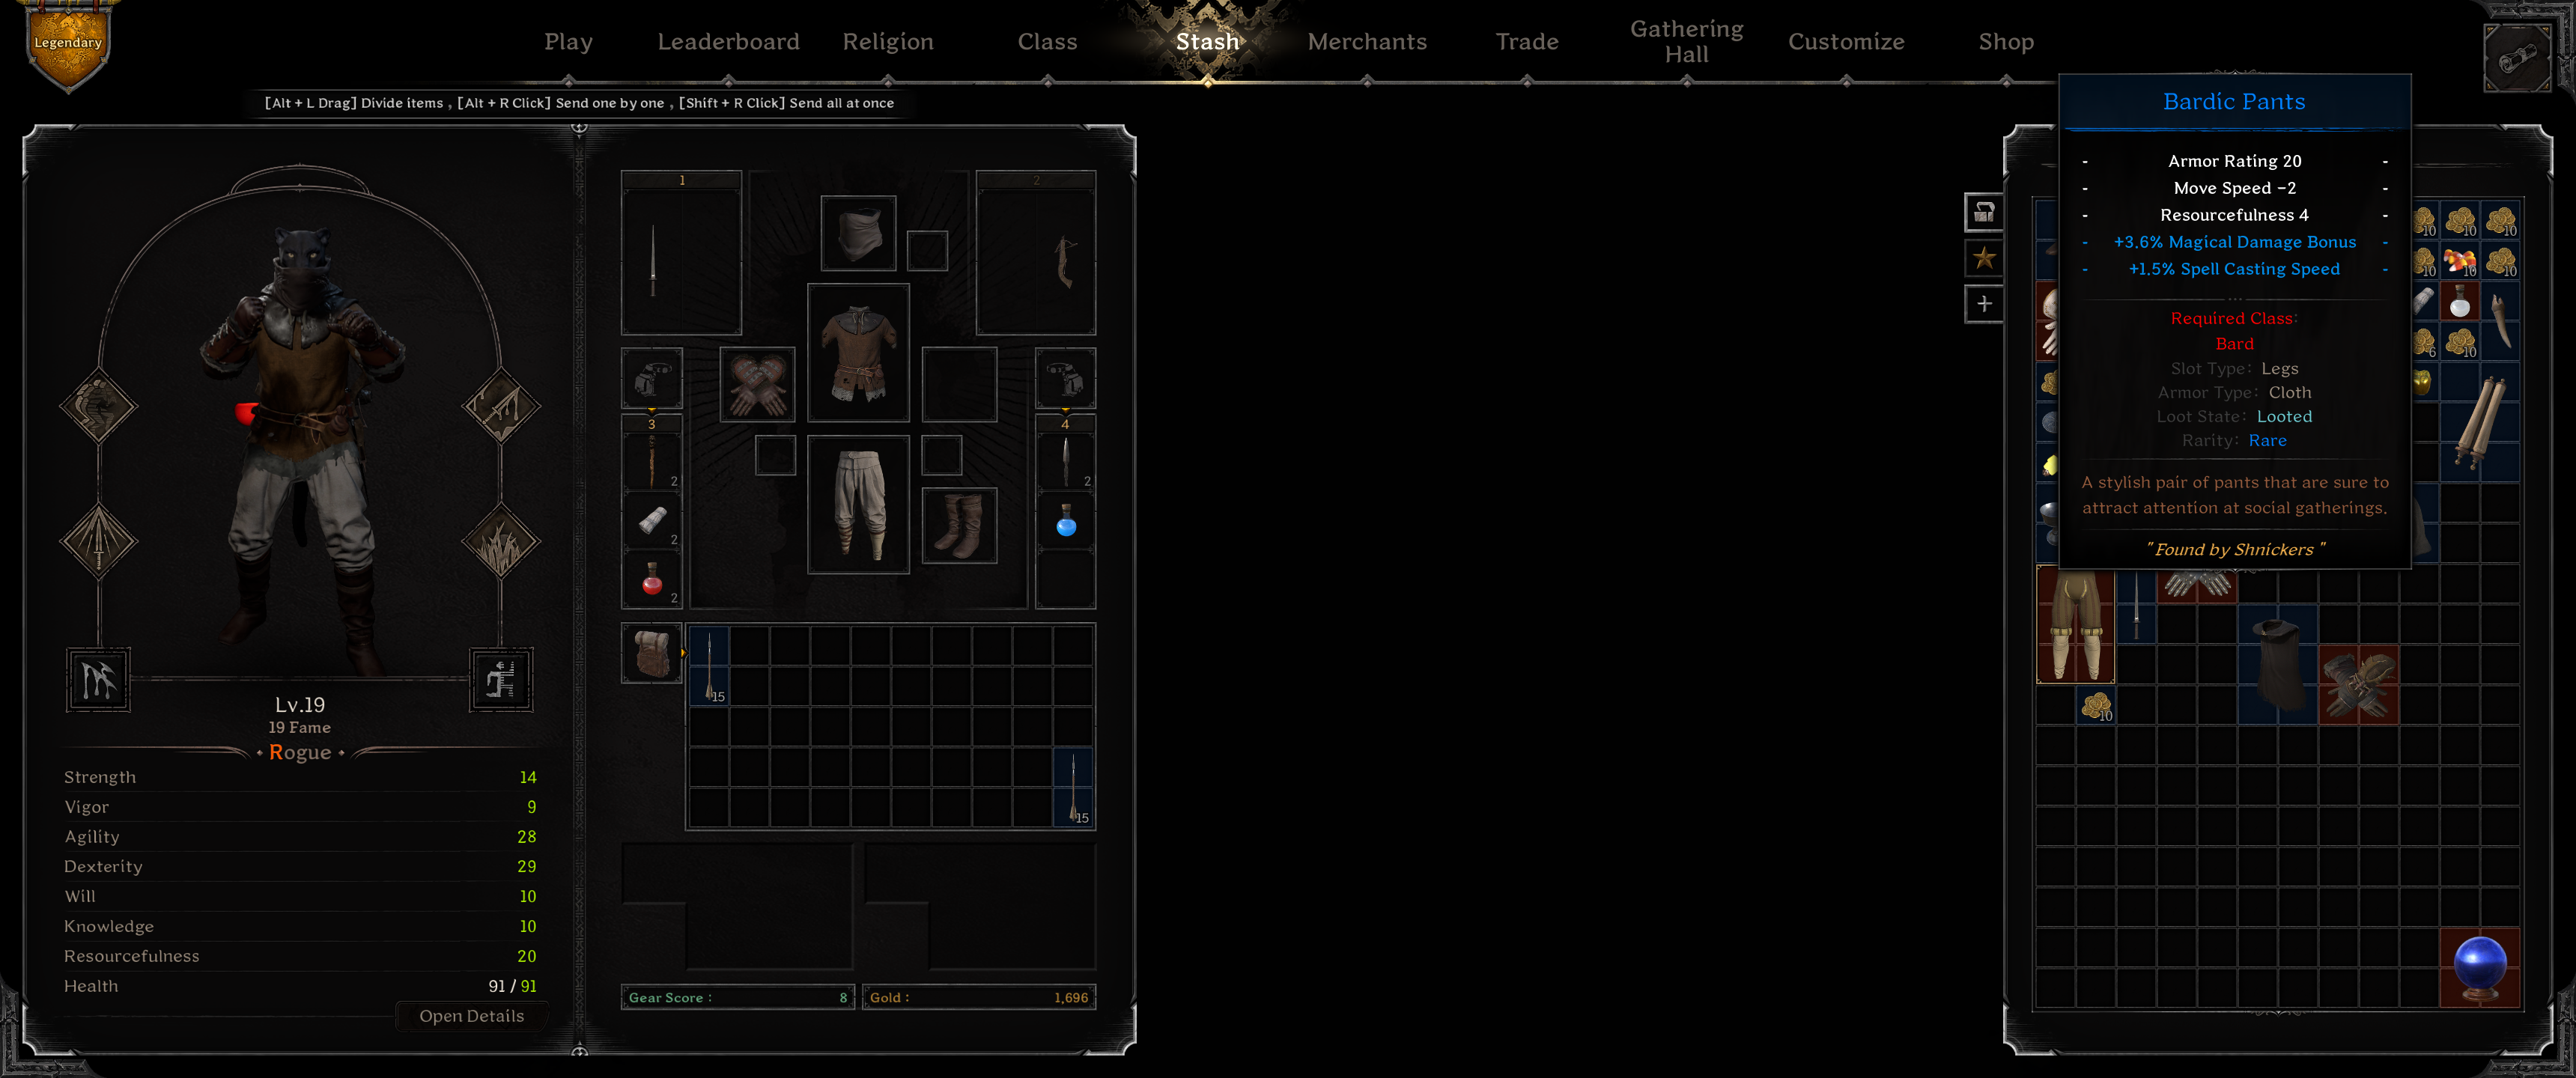Tooltip: (2057, 67, 2413, 574)
